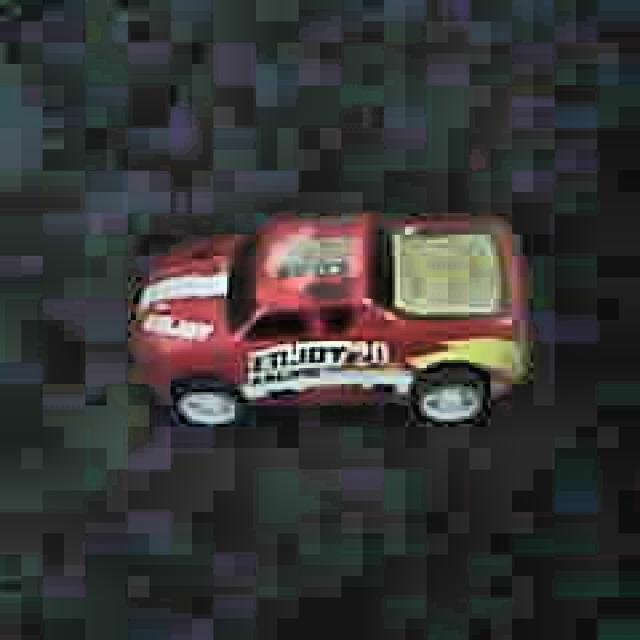car: (123, 203, 531, 436)
